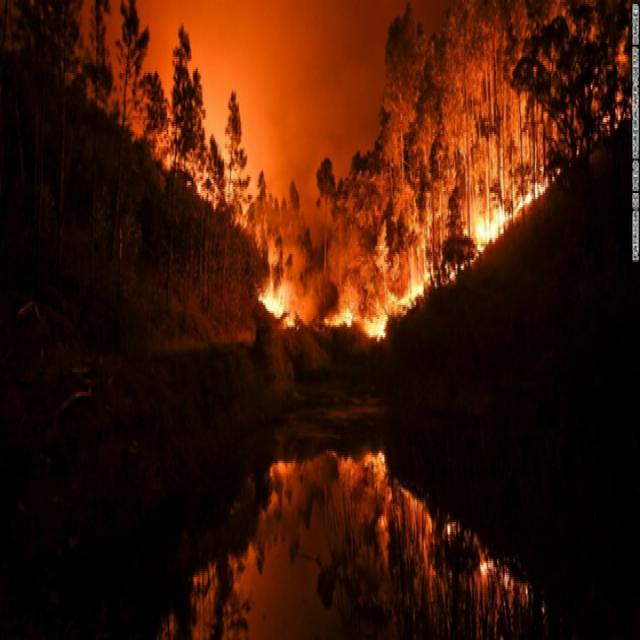Fire: (158, 43, 570, 343)
